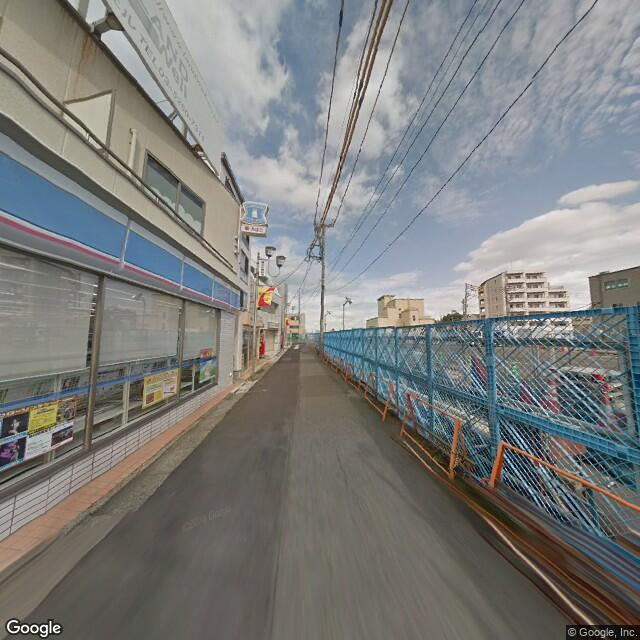lawson: (3, 138, 243, 317), (240, 198, 270, 231)
